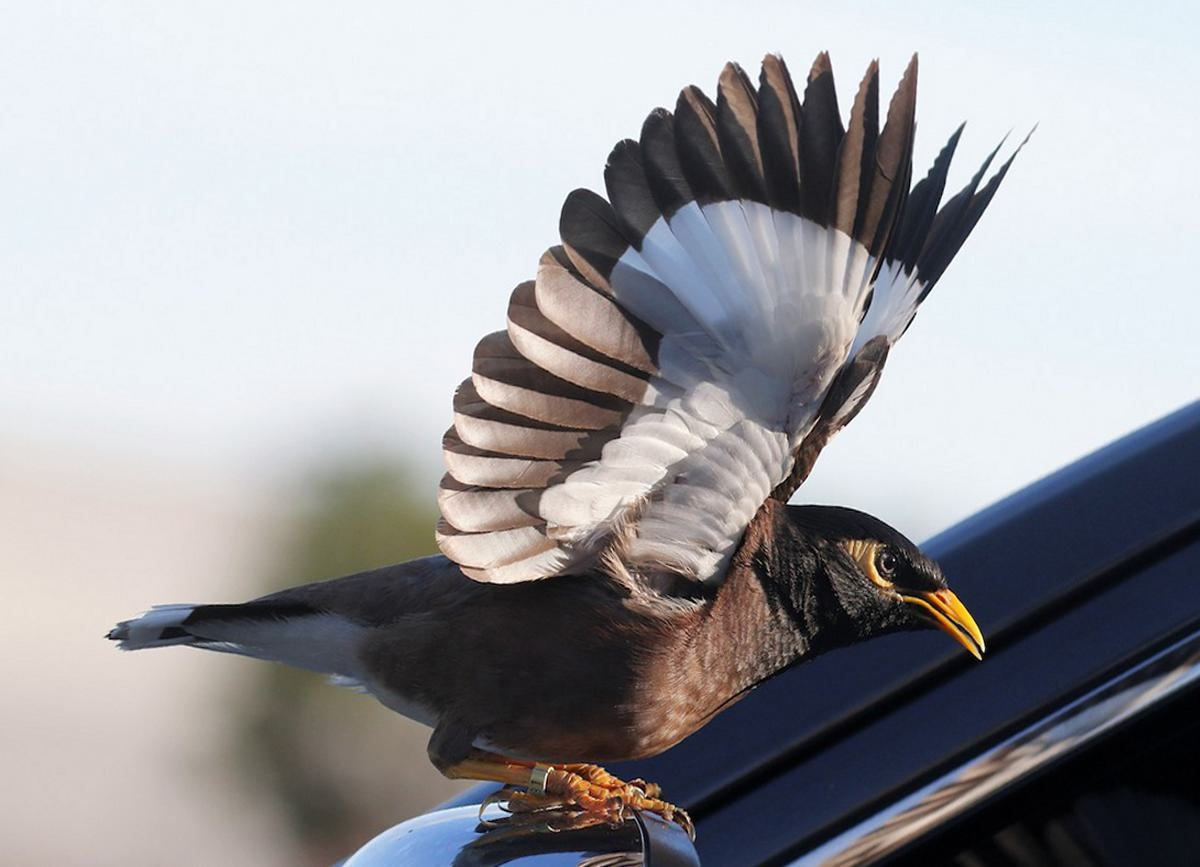myna: (264, 81, 1104, 818)
